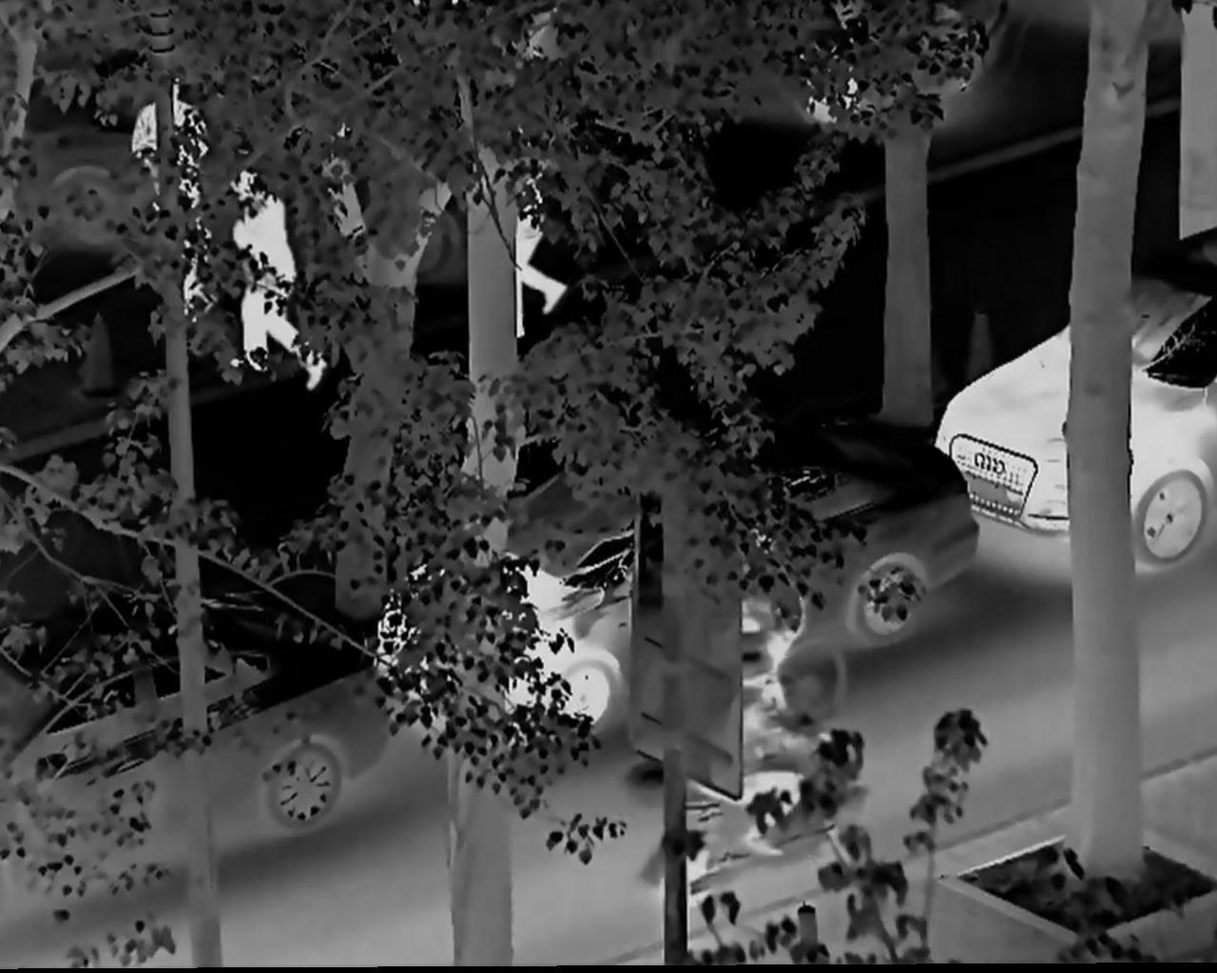person: (219, 163, 331, 391), (125, 69, 214, 317), (486, 154, 567, 350)
